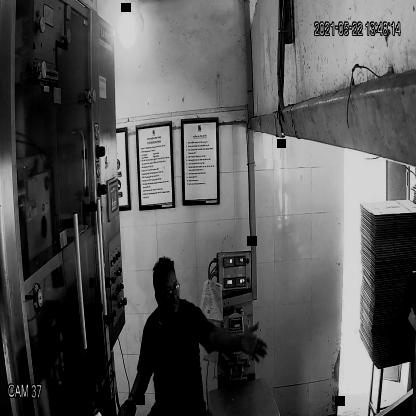goggles: (154, 280, 182, 302)
